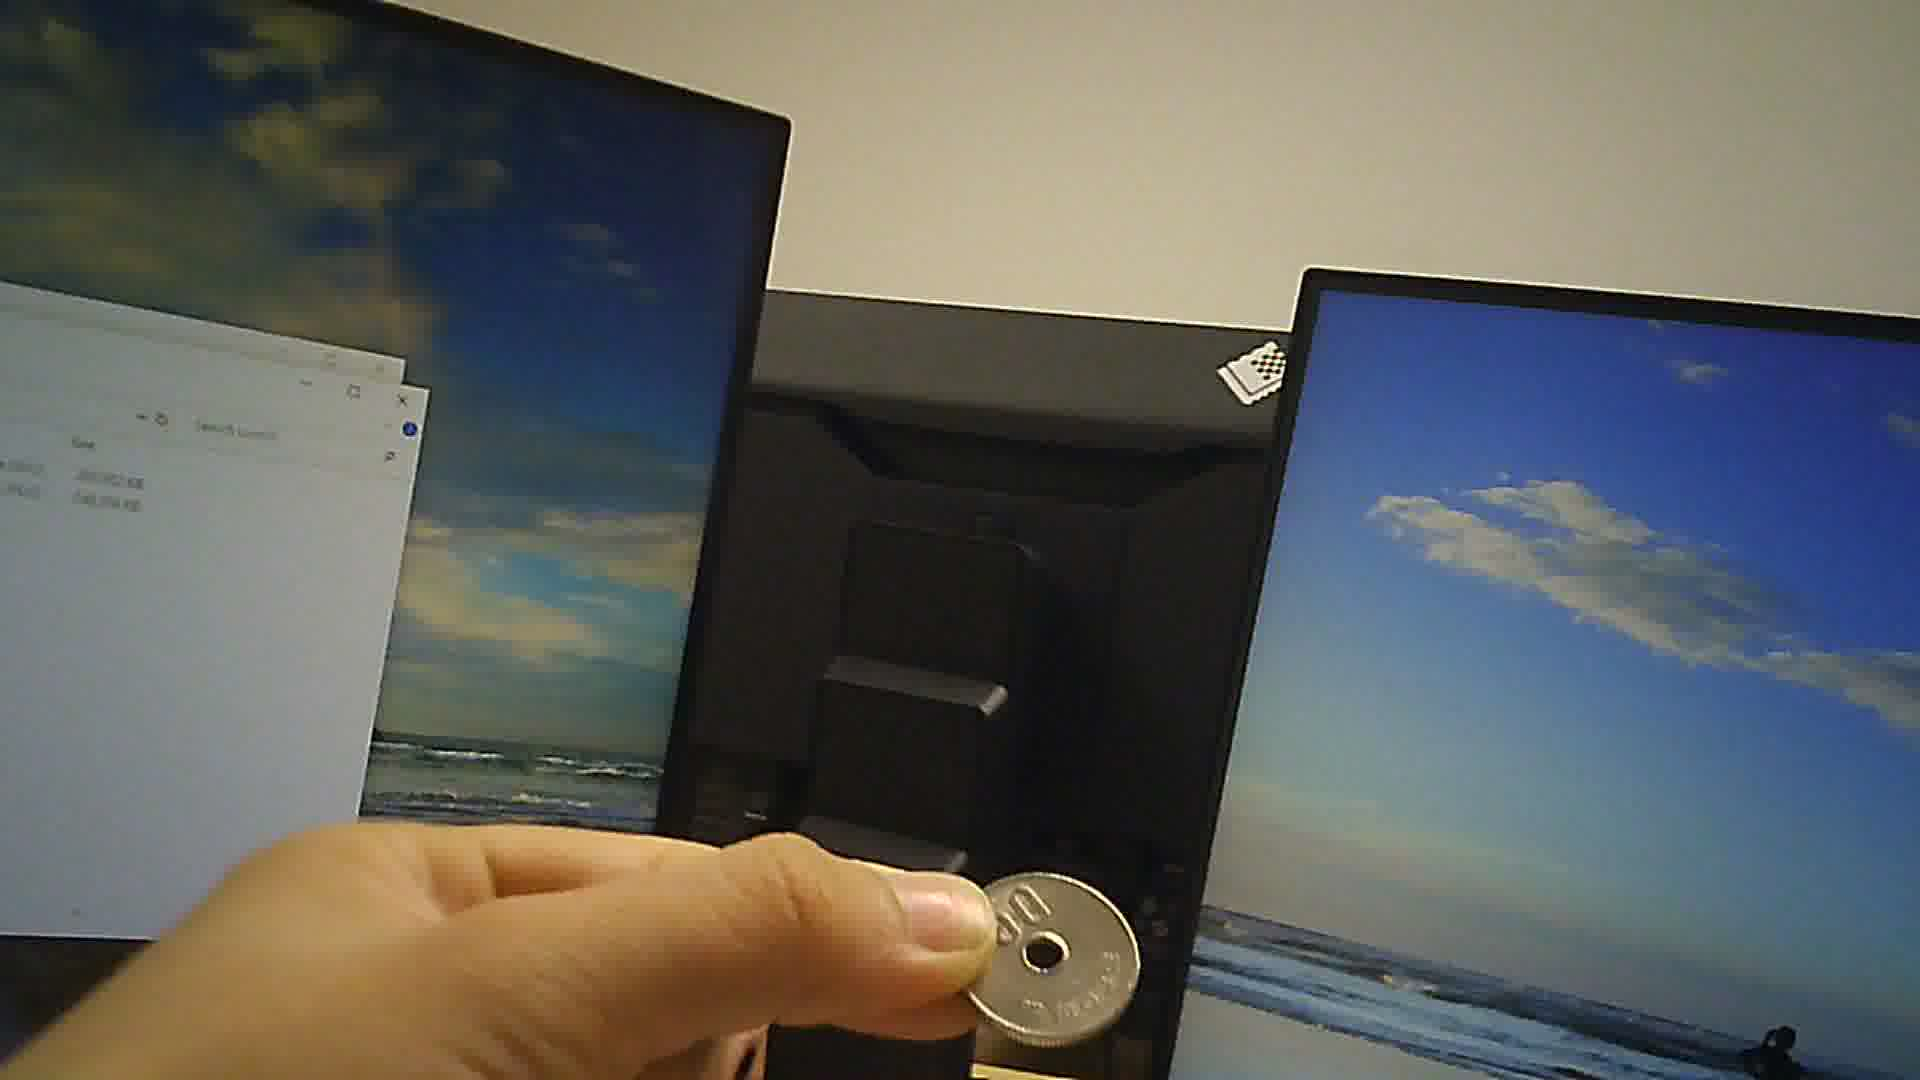50 Yen: (952, 861, 1147, 1046)
